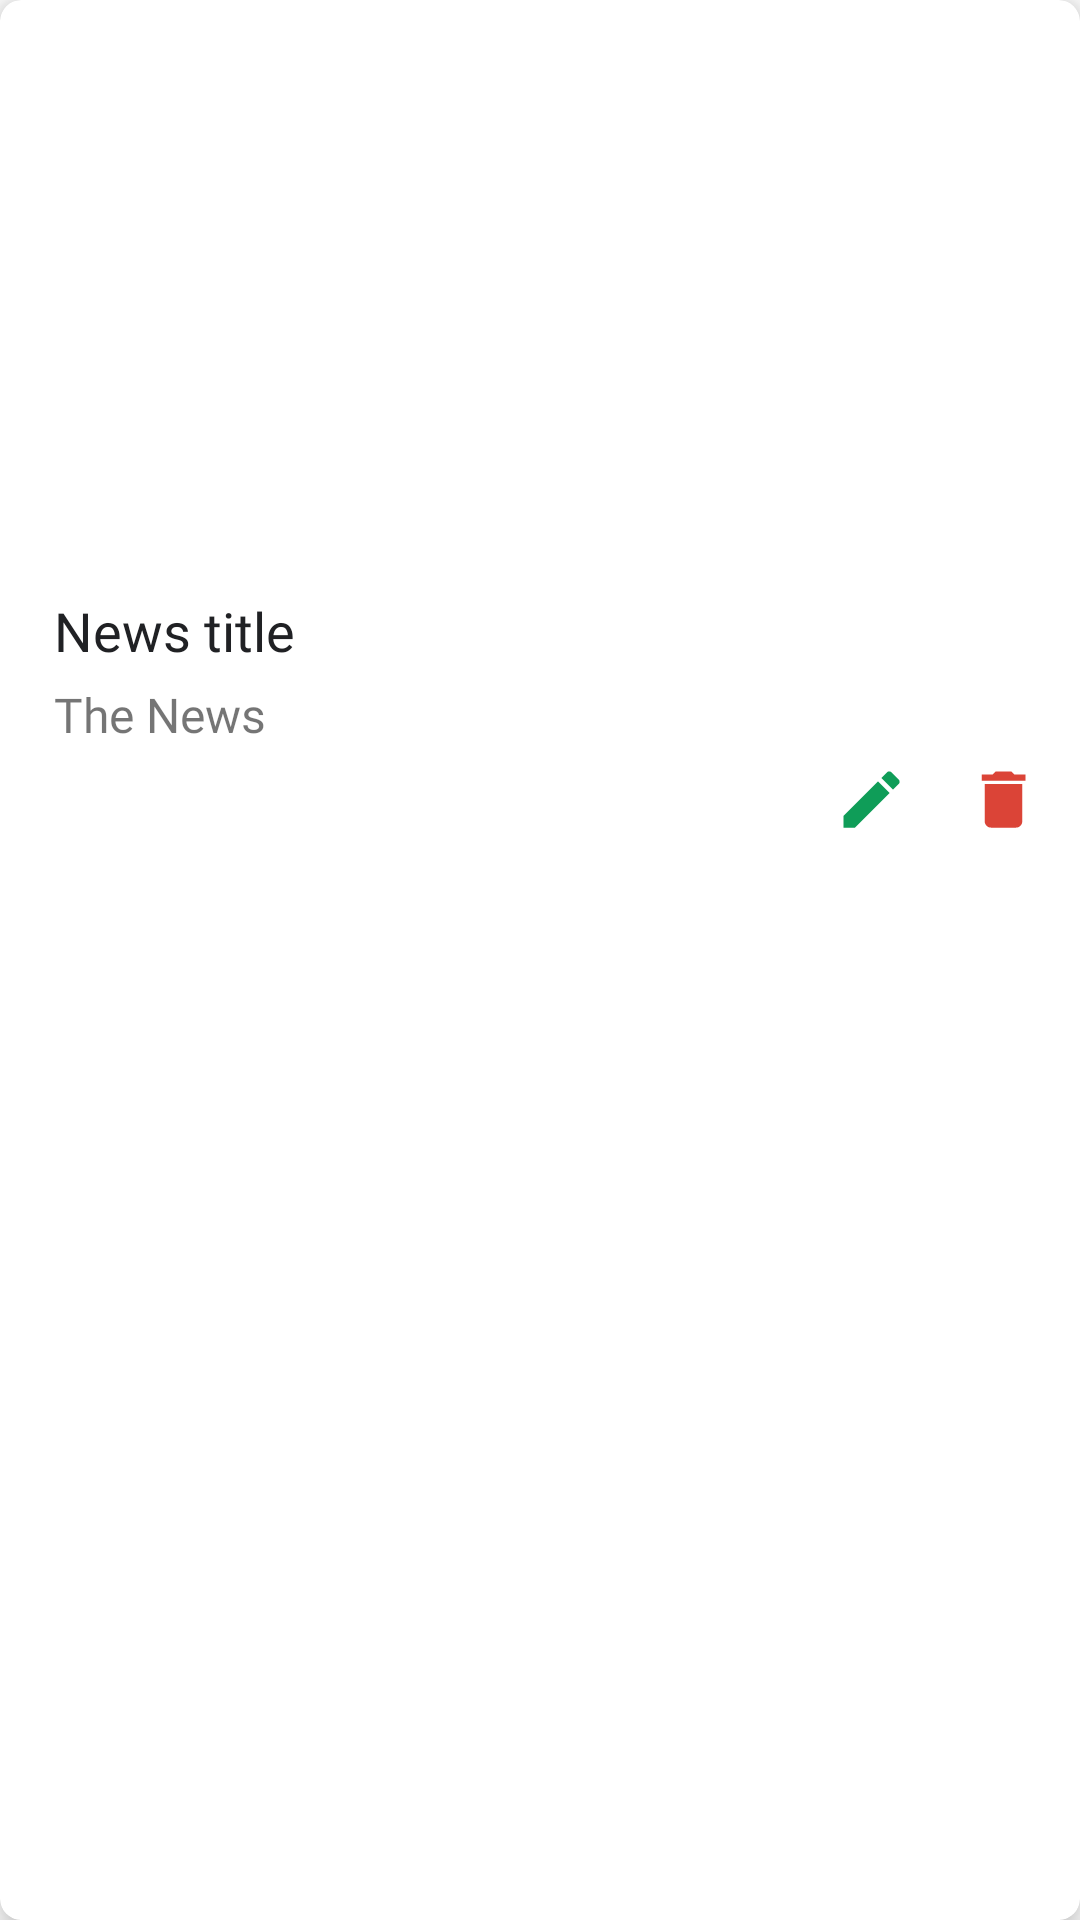

Screen size 1080px x 1920px. Icon name, then its center in pixels as (x=x, y=y):
delete: (x=1003, y=799)
edit: (x=871, y=799)
